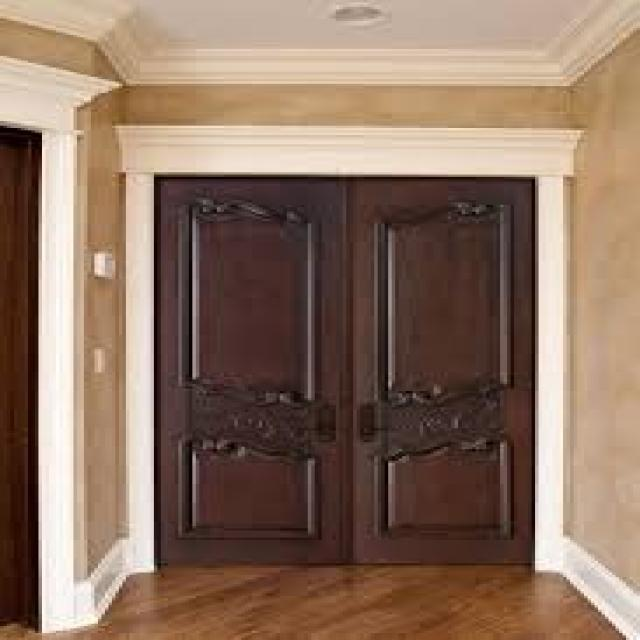Door: (160, 181, 532, 561)
